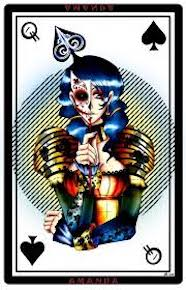QueenOfSpades: (8, 10, 179, 280)
